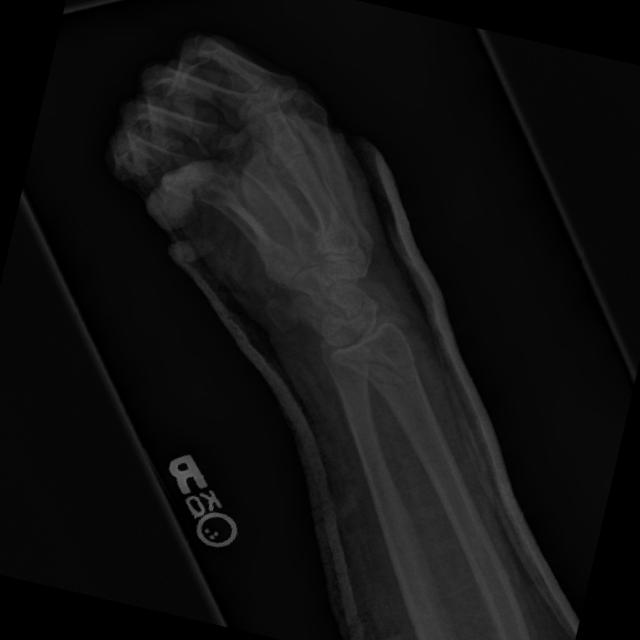fingers positive: (324, 331, 435, 419)
